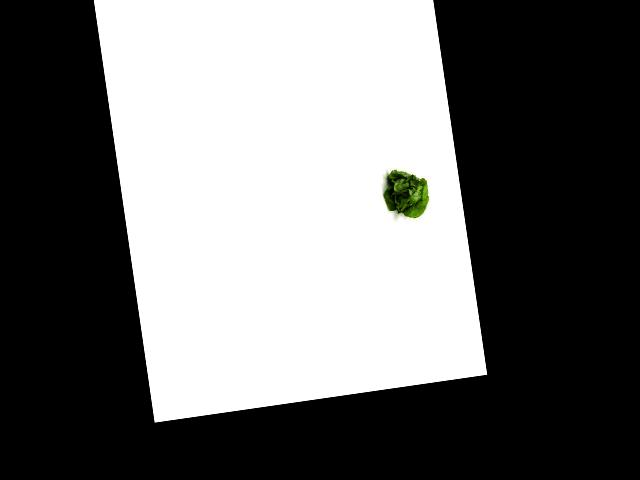lettuce: (377, 164, 436, 223)
